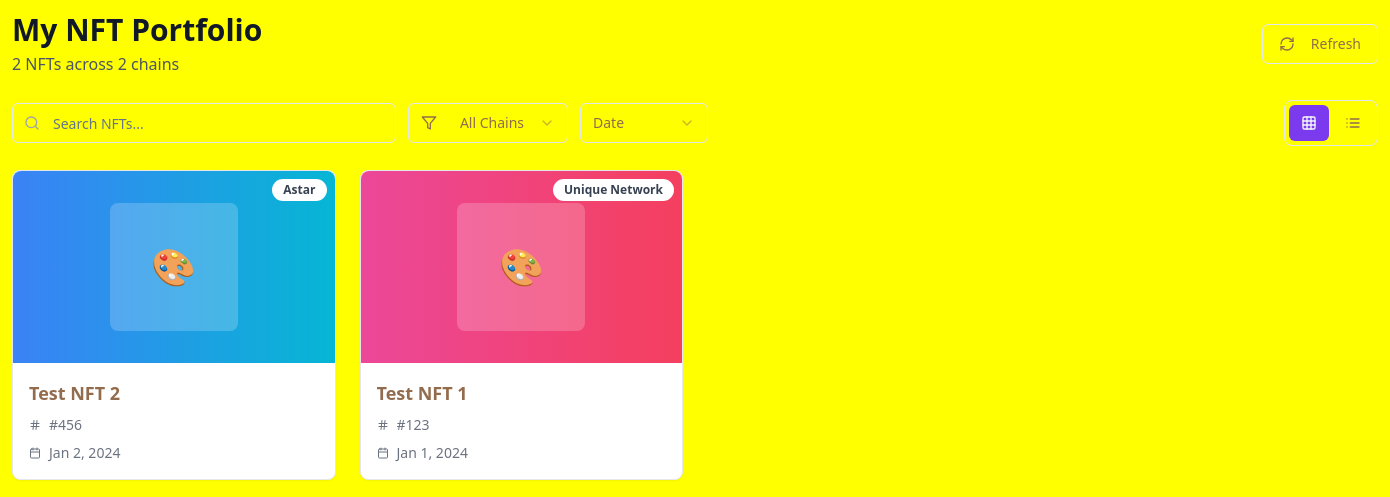
Test: PortfolioView › handles search functionality
Expected: the heading "Test NFT 1" is shown, [376,381,468,405]
In the field with placeholder "Search NFTs...": (204, 123) [12,103,396,143], type "Test NFT 1"
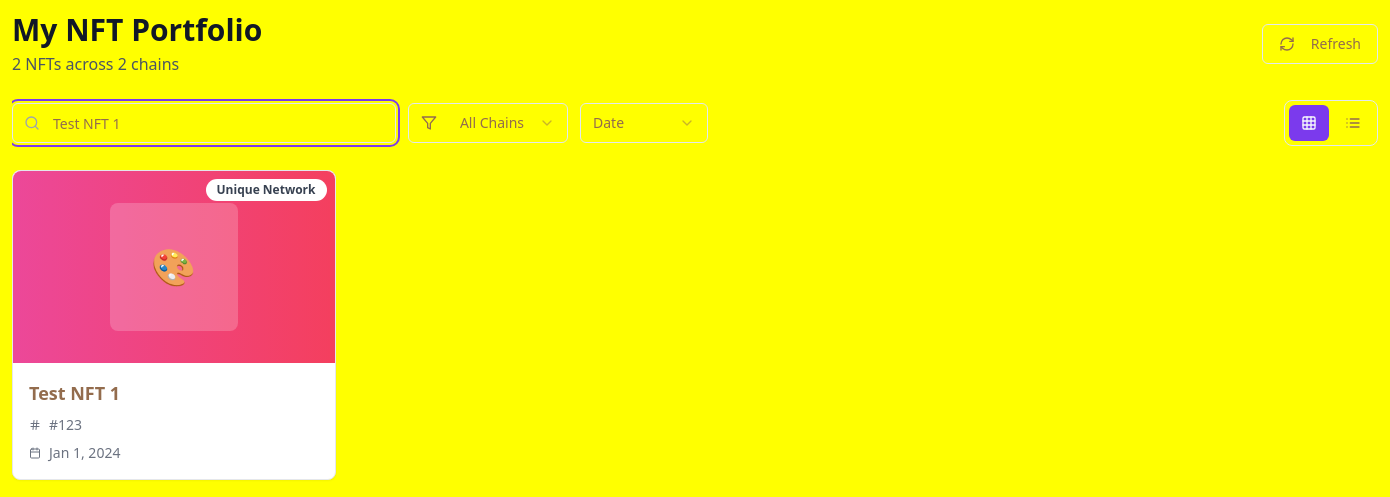
Expected: the heading "Test NFT 1" is shown, [29,381,120,405]
Expected: the heading "Test NFT 2" is gone
